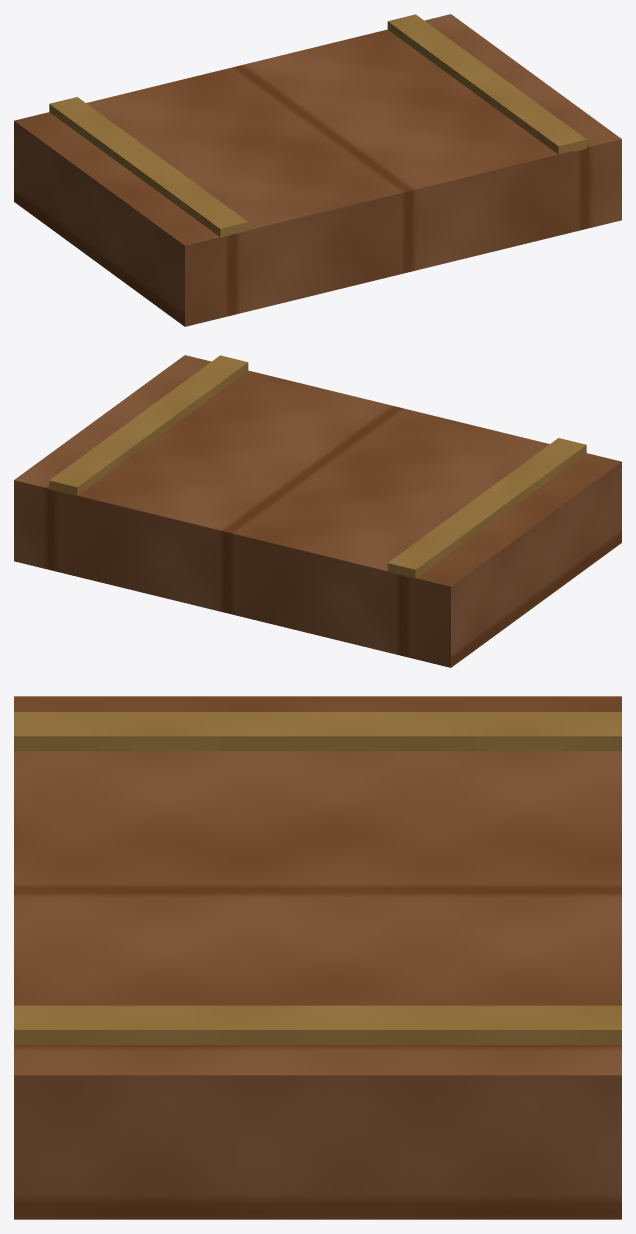
Rendered from chest_lid.obj.
3 renders of one model, top to bottom at view 1: azimuth 30°, elevation 25°; view 2: azimuth 150°, elevation 25°; view 3: azimuth 270°, elevation 25°, orthographic. The views are drawn at different scales.
Parts seen in each view (by area): view 1: chest_lid; view 2: chest_lid; view 3: chest_lid.
Part boxes in pixels (bbox=[...]): chest_lid: bbox=[14, 14, 621, 326]; chest_lid: bbox=[14, 355, 621, 667]; chest_lid: bbox=[14, 696, 621, 1219].
Size of the model in its own units: 1.24 by 0.2425 by 0.84.
2 materials, 2 textured.
